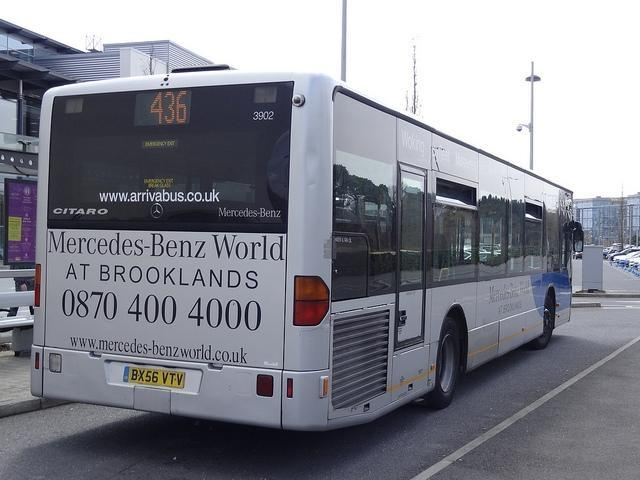bus: (31, 72, 588, 430)
car: (614, 250, 640, 266), (626, 256, 640, 268), (632, 258, 640, 272), (602, 248, 612, 259)
